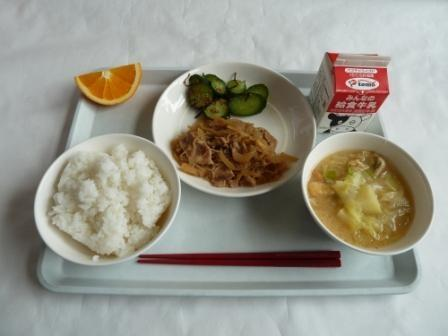Citrus: (67, 51, 146, 109)
Meat: (173, 116, 293, 187)
Milk: (310, 41, 392, 144)
Rice: (35, 134, 176, 266)
Salad: (176, 63, 275, 120)
Soups: (307, 129, 427, 249)
